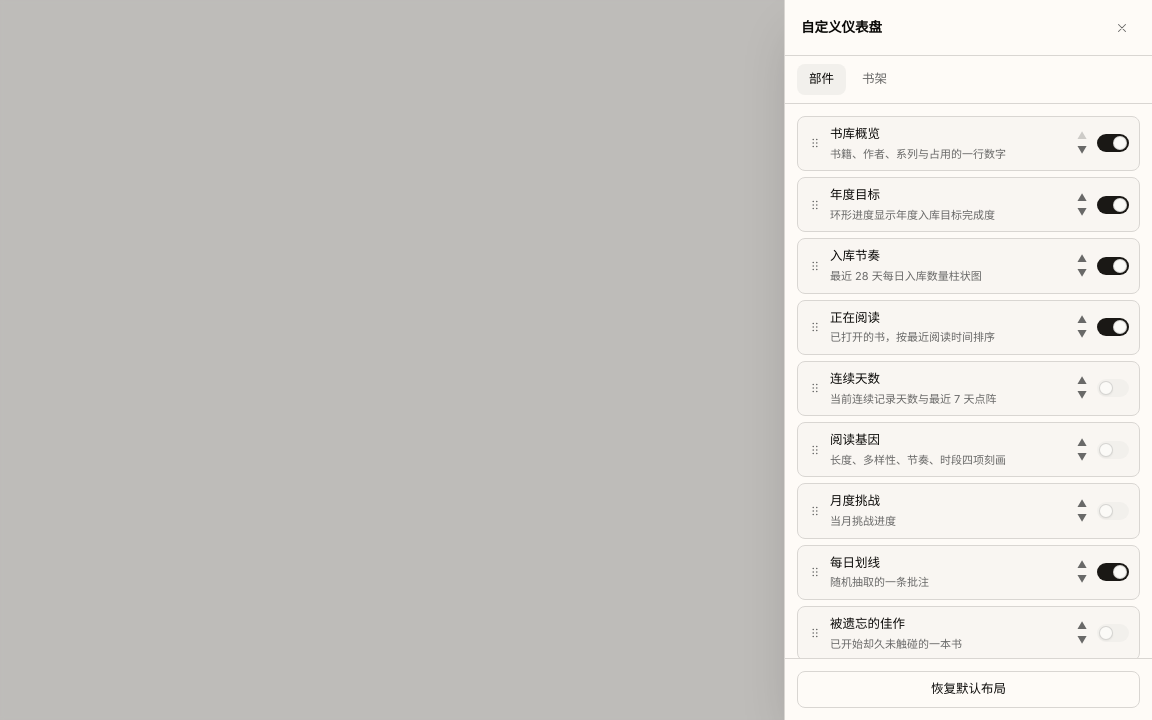
Test: 库范围勾选（第 83 期） › 勾一个库 ⇒ 标题从「全部书库」变成「1 个书库」，且只留那一个
Click the button "书架" at (874, 79), box [850,64,899,95]
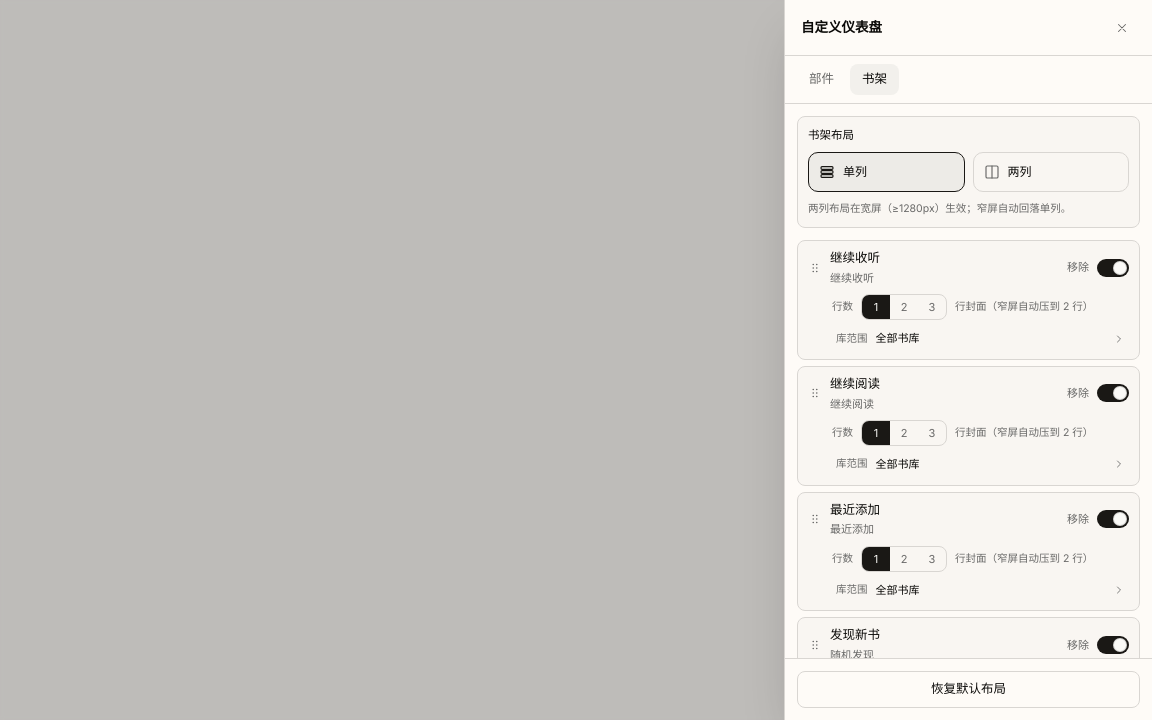
Check: the 1st button "库范围 全部书库" is shown
Click the 1st button "库范围 全部书库" at (852, 338), box [832,326,1129,351]
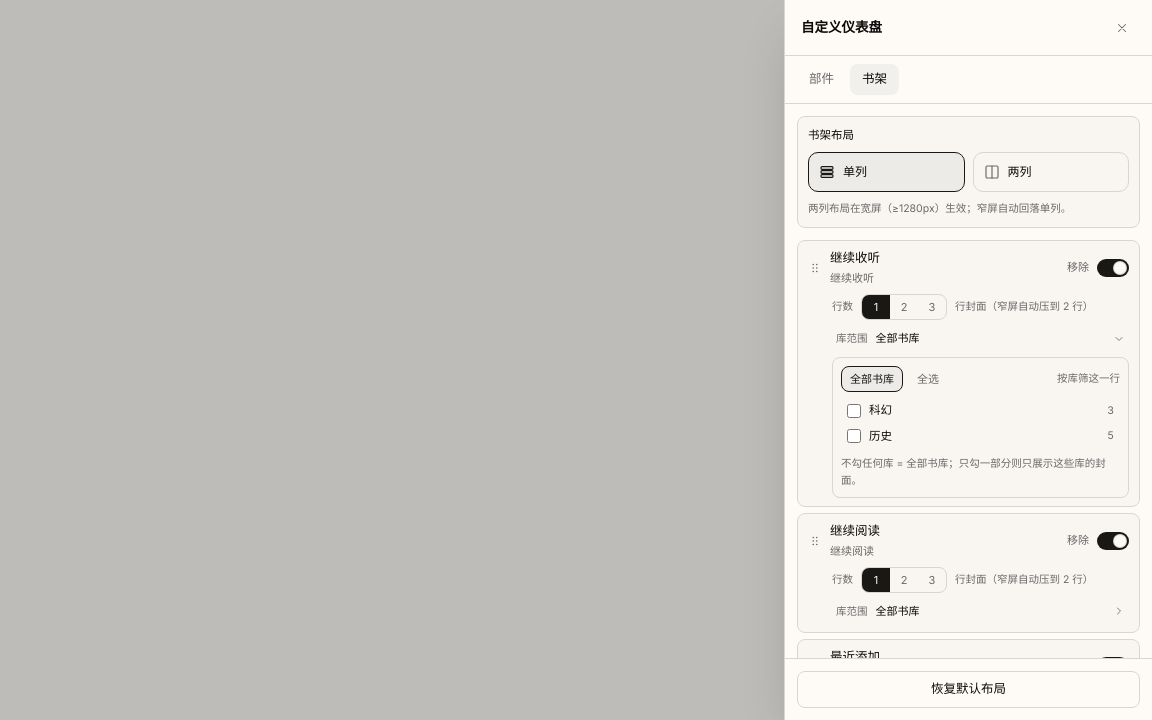
Check: the number of checkboxes is 2
Click the checkbox labelled "科幻 3" at (854, 411), box [847,404,861,418]
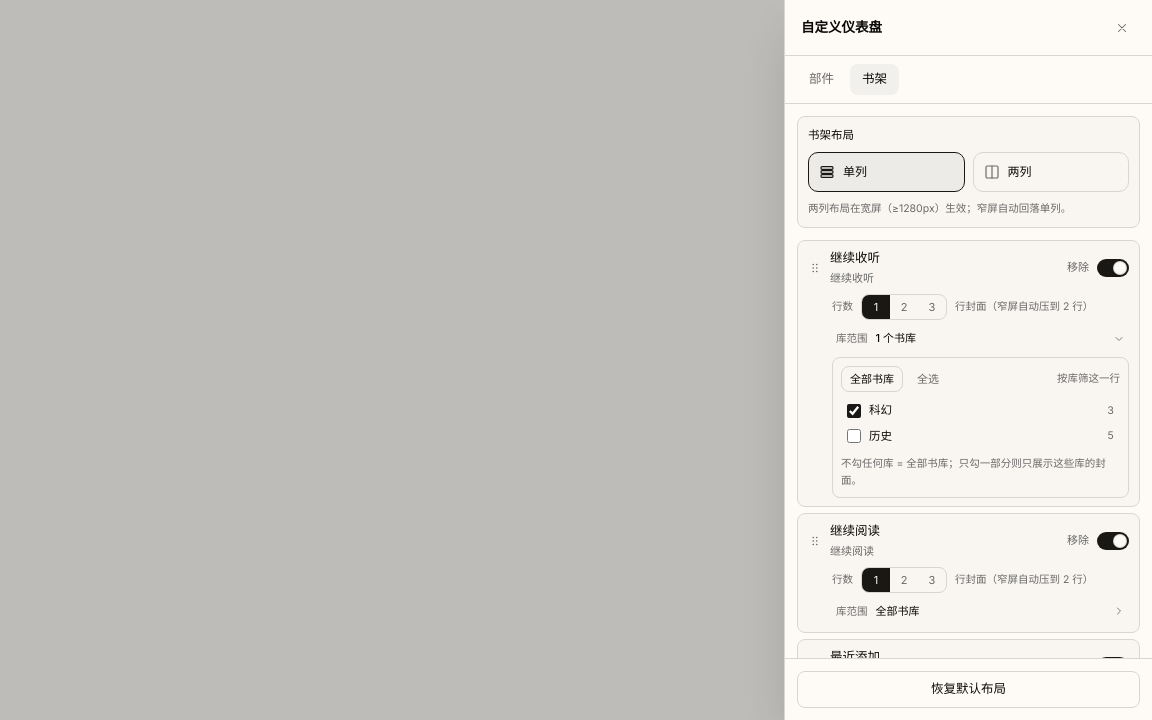
Check: the text "1 个书库" is shown, box [876,331,916,345]
